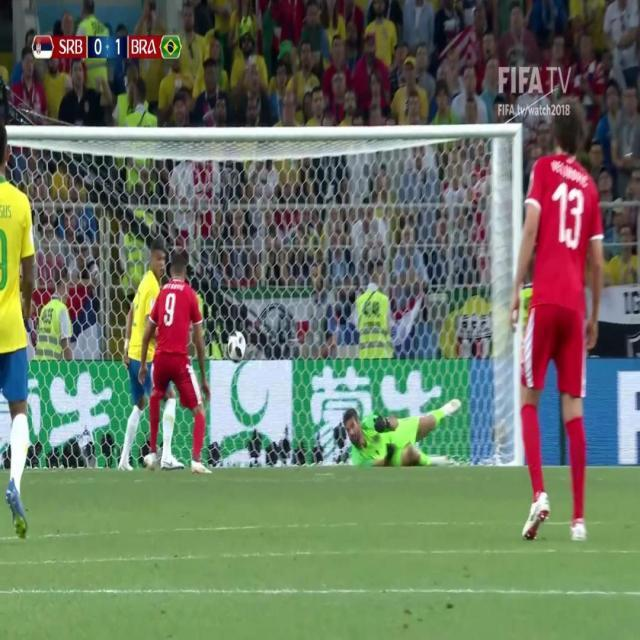ball: (226, 325, 248, 369)
goalkeeper: (330, 379, 467, 474)
player: (503, 92, 611, 553), (137, 234, 217, 489), (1, 96, 43, 551), (116, 231, 174, 474)
